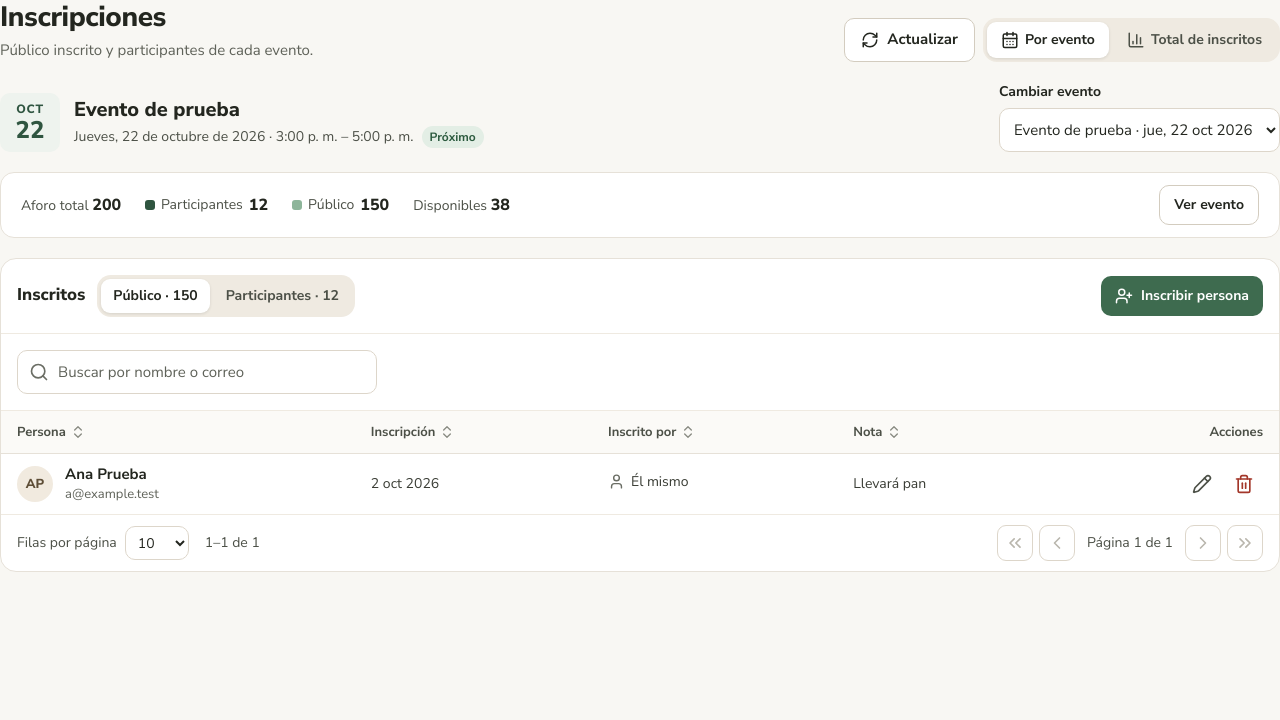
Test: AdminRegistrationsPage · Por evento › editar modifica solo la nota
The width and height of the screenshot is (1280, 720).
Click the button named "Editar nota de Ana Prueba".
click(1202, 484)  # box x1=1183 y1=465 x2=1221 y2=503
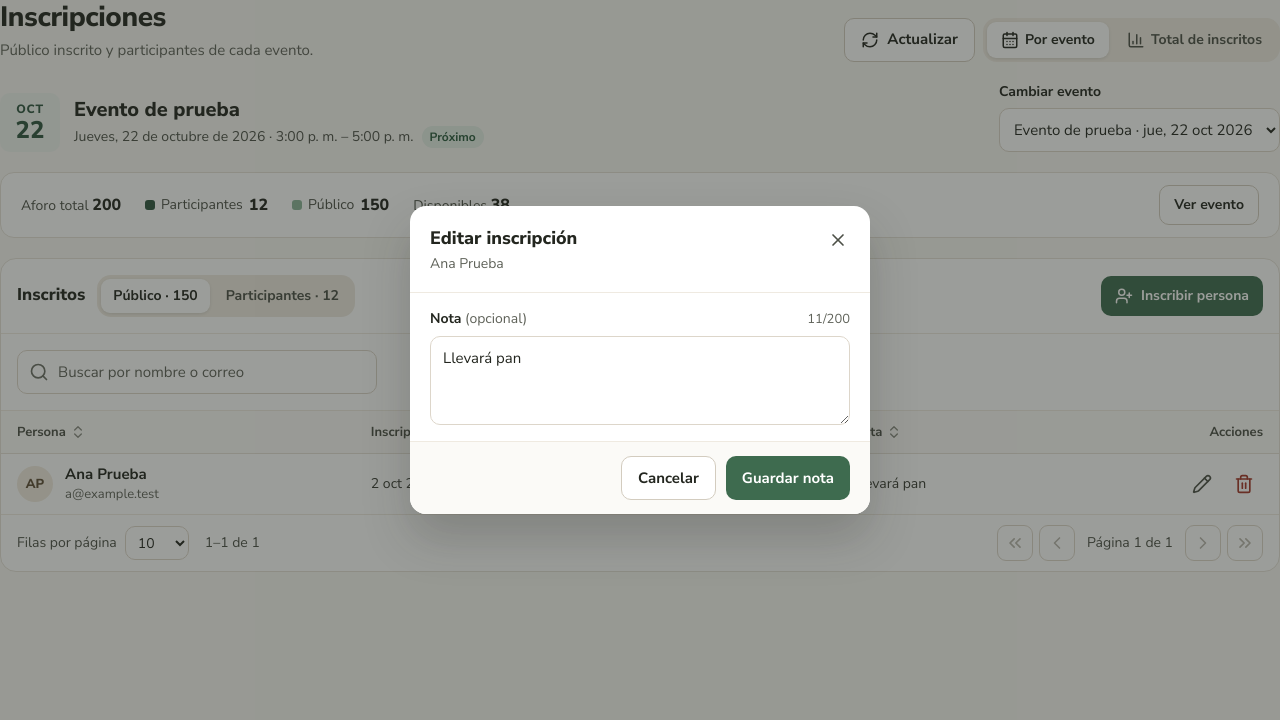
Check: the text box labelled "Nota (opcional)" holds "Llevará pan"
Replace the text in the text box labelled "Nota (opcional)" with "Llevará vino" at (640, 380), box x1=430 y1=336 x2=850 y2=425
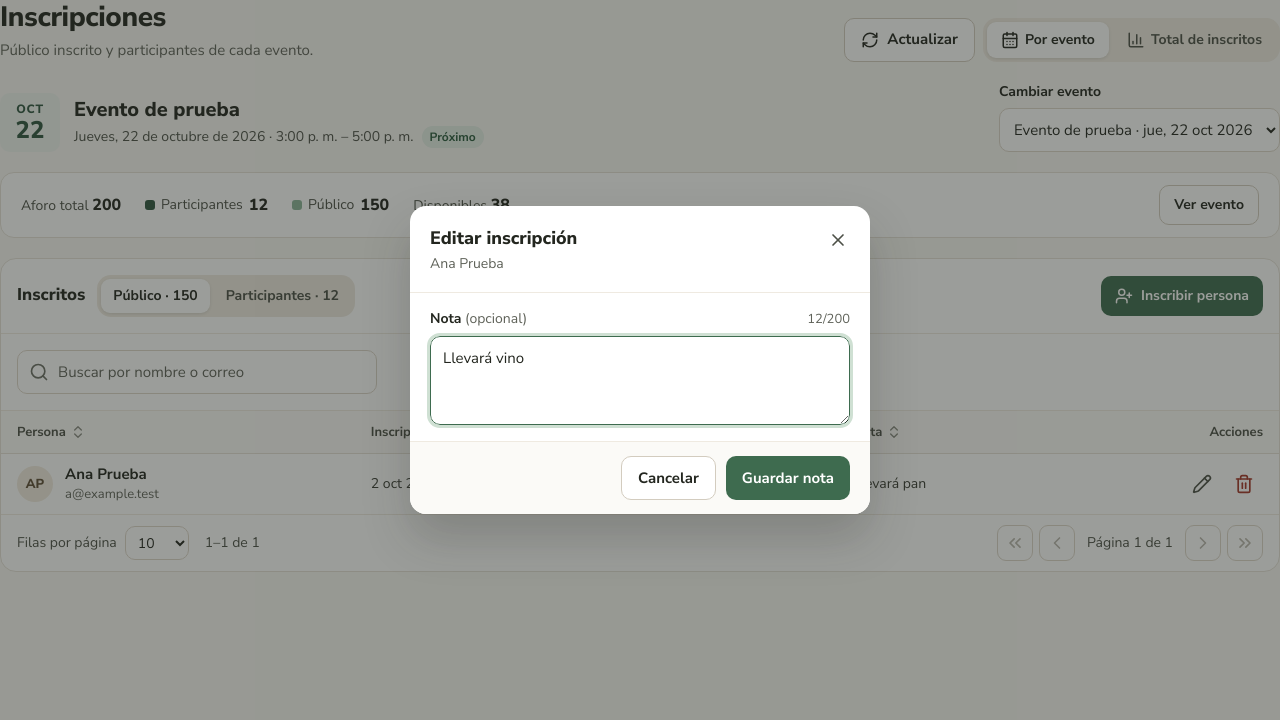
Click the button "Guardar nota".
click(788, 478)  # box x1=726 y1=456 x2=850 y2=500
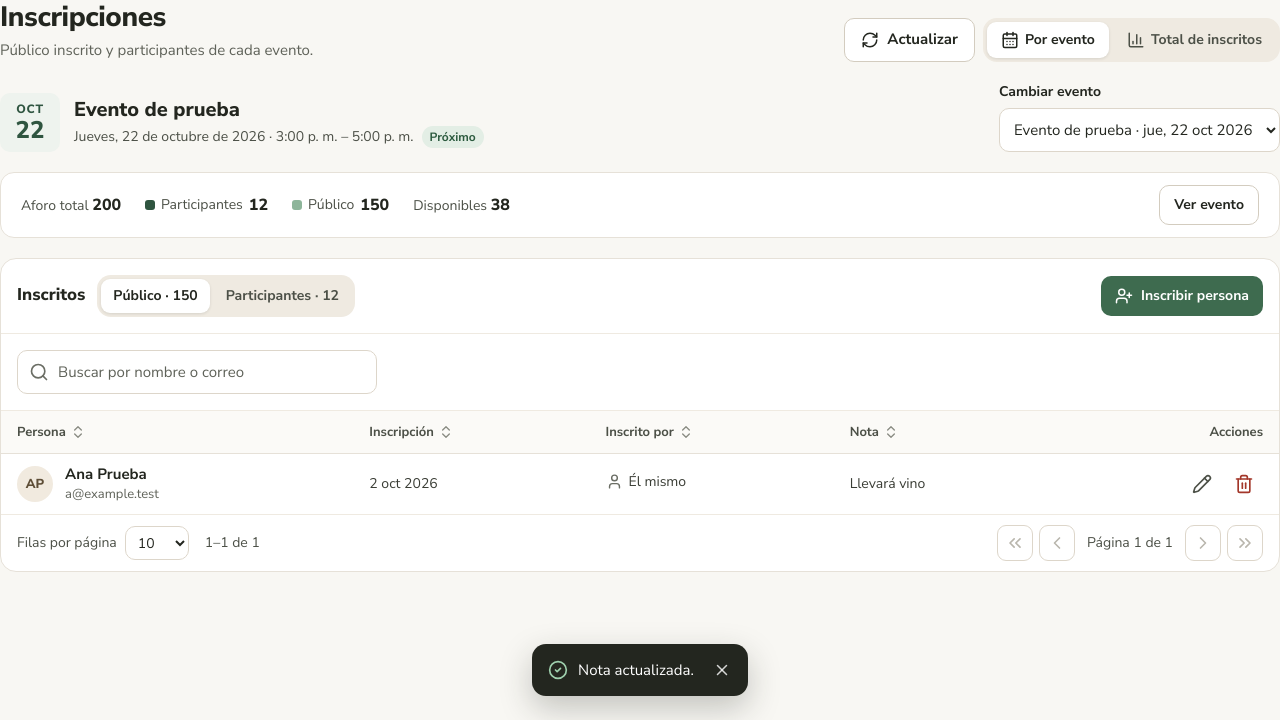
Check: the text "Nota actualizada." is shown, box x1=578 y1=654 x2=694 y2=686
Check: the dialog is gone
Check: the text "Llevará vino" is shown, box x1=834 y1=454 x2=1052 y2=514
